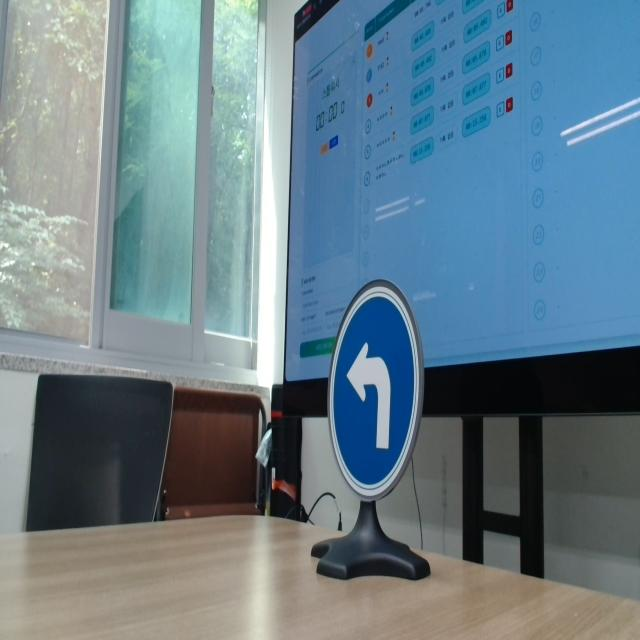left_direction: (321, 272, 427, 507)
